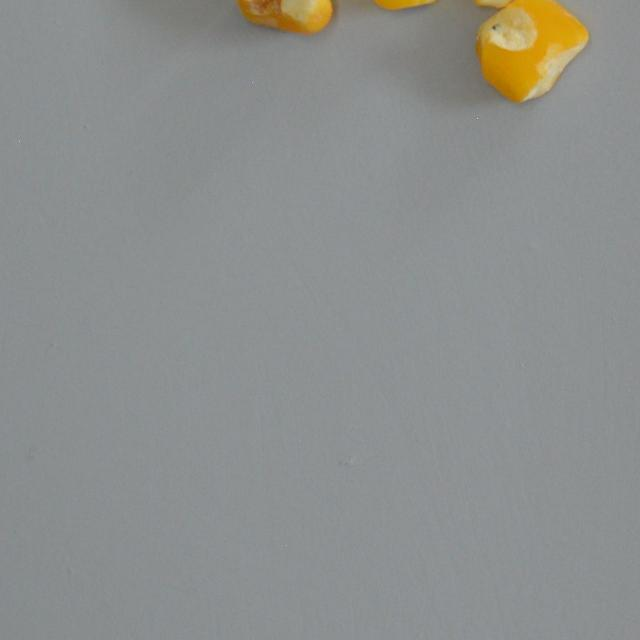dañado: (232, 0, 346, 42)
punto_negro: (468, 0, 592, 108)
